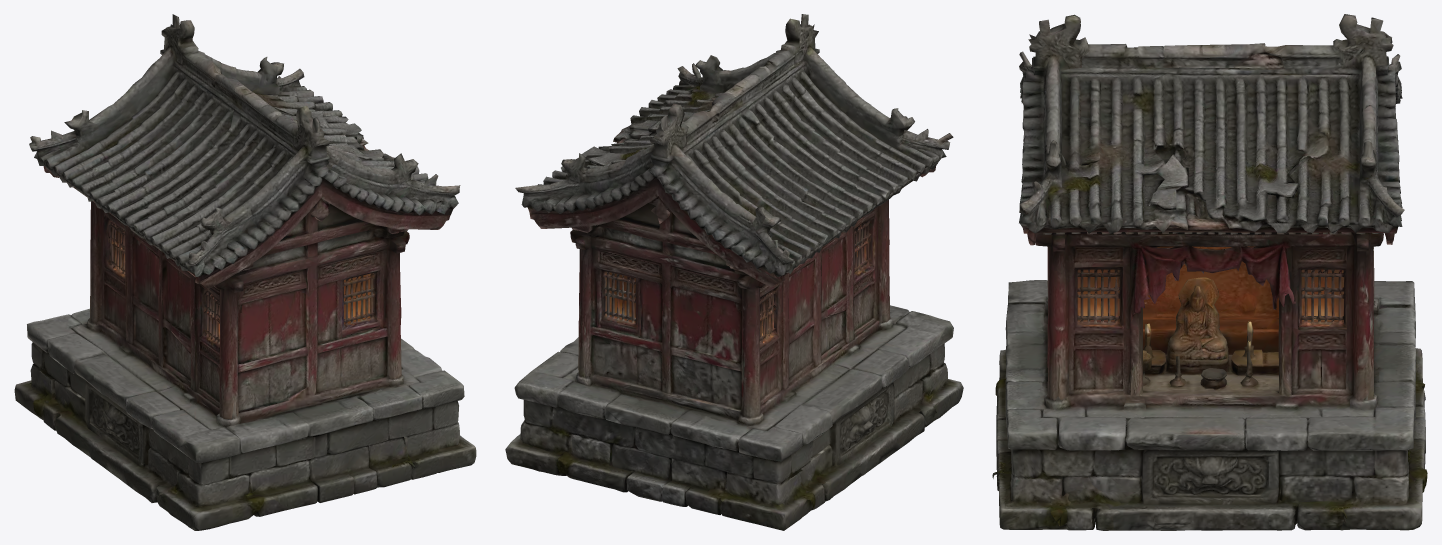
3 renders of one model, left to right at view 1: azimuth 30°, elevation 25°; view 2: azimuth 150°, elevation 25°; view 3: azimuth 270°, elevation 25°, orthographic. The views are drawn at different scales.
Parts seen in each view (by area): view 1: tripo_node_61cca51c-74e2-4a1f-b714-c80712c4e710; view 2: tripo_node_61cca51c-74e2-4a1f-b714-c80712c4e710; view 3: tripo_node_61cca51c-74e2-4a1f-b714-c80712c4e710.
Boxes of the visible parts, x1=… form: tripo_node_61cca51c-74e2-4a1f-b714-c80712c4e710: x1=14, y1=14, x2=476, y2=530; tripo_node_61cca51c-74e2-4a1f-b714-c80712c4e710: x1=505, y1=14, x2=963, y2=530; tripo_node_61cca51c-74e2-4a1f-b714-c80712c4e710: x1=992, y1=14, x2=1427, y2=530.
Size of the model in its own units: 0.8238 by 1 by 0.9058.
Materials: 1 (1 with a texture image).
